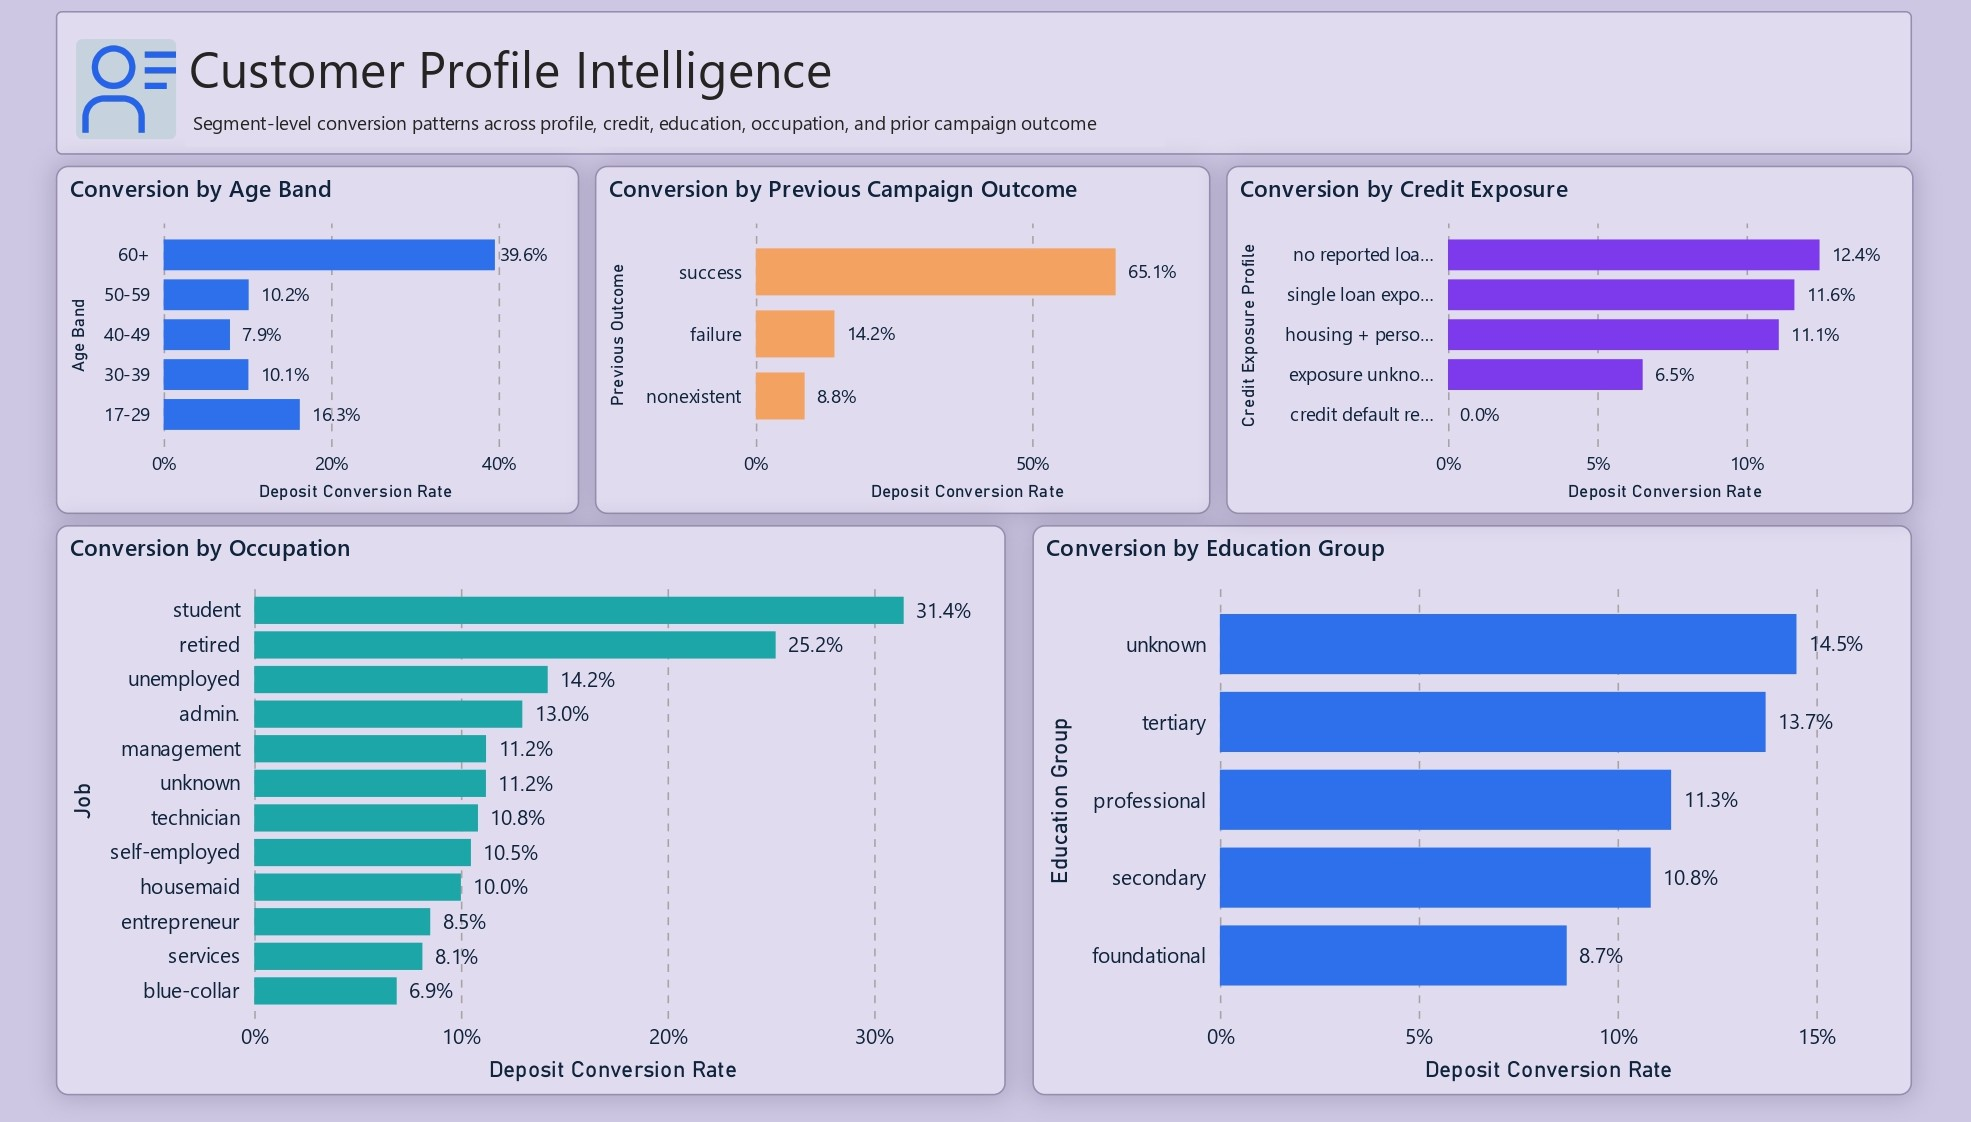

The page's visual inventory and layout, read from the dashboard file:
{"tool":"powerbi","page":{"name":"Customer Profile Intelligence","canvas":[1280,720],"ordinal":1},"visuals":[{"type":"shape","box":[45,8.3,1188.3,91.7],"z":0},{"type":"clusteredBarChart","title":"Conversion by Age Band","fields":{"Category":["dim_customer_profile.age_band"],"Y":["_Measures.Deposit Conversion Rate"]},"box":[45,106.7,335,223.3],"z":1000},{"type":"clusteredBarChart","title":"Conversion by Previous Campaign Outcome","fields":{"Category":["fact_campaign_contact.previous_outcome"],"Y":["_Measures.Deposit Conversion Rate"]},"box":[390,107,394,223],"z":2000},{"type":"textbox","box":[125.2,16,425.7,55.7],"z":3000},{"type":"textbox","box":[128.1,64.5,627.1,30],"z":4000},{"type":"image","box":[58.2,26.4,63.6,63.6],"z":5000},{"type":"clusteredBarChart","title":"Conversion by Occupation","fields":{"Category":["dim_customer_profile.job"],"Y":["_Measures.Deposit Conversion Rate"]},"box":[45,336.7,608.3,365],"z":6000},{"type":"clusteredBarChart","title":"Conversion by Education Group","fields":{"Category":["dim_customer_profile.education_group"],"Y":["_Measures.Deposit Conversion Rate"]},"box":[670,336.7,563.3,365],"z":7000},{"type":"clusteredBarChart","title":"Conversion by Credit Exposure","fields":{"Category":["dim_customer_profile.credit_exposure_profile"],"Y":["_Measures.Deposit Conversion Rate"]},"box":[794,107,440,223],"z":8000}]}

Visuals, with their boxes in screenshot pixels (x1, y1, x2, y2), scaled from the page's 1280x720 canvas onto the 1971x1122 screenshot:
shape: 69:13:1899:156
"Conversion by Age Band" clusteredBarChart: 69:166:585:514
"Conversion by Previous Campaign Outcome" clusteredBarChart: 601:167:1207:514
textbox: 193:25:848:112
textbox: 197:101:1163:147
image: 90:41:188:140
"Conversion by Occupation" clusteredBarChart: 69:525:1006:1093
"Conversion by Education Group" clusteredBarChart: 1032:525:1899:1093
"Conversion by Credit Exposure" clusteredBarChart: 1223:167:1900:514
